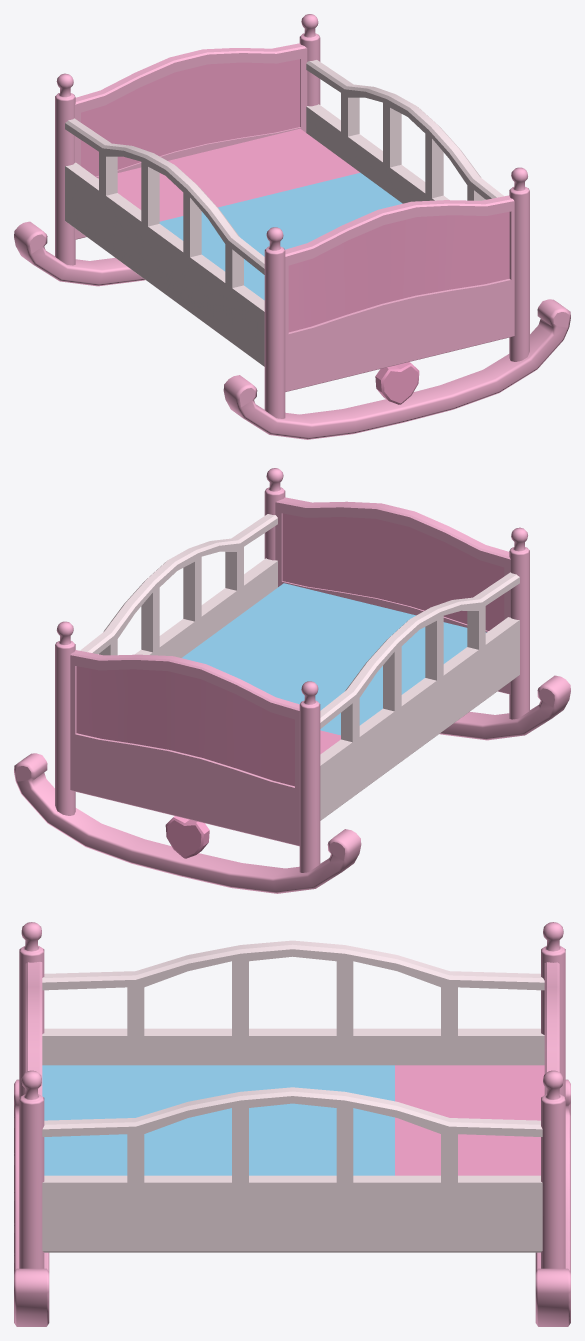
The model's file is Swing_01.fbx.
The picture shows the model from 3 angles, top to bottom: view 1: azimuth 30°, elevation 25°; view 2: azimuth 150°, elevation 25°; view 3: azimuth 270°, elevation 25°; orthographic projection. The views are drawn at different scales.
Visible parts, largest first — view 1: polySurface89; view 2: polySurface89; view 3: polySurface89.
Boxes of the visible parts, box(x1,y1,x2,y2) form: polySurface89: box(14, 14, 570, 439); polySurface89: box(14, 468, 570, 893); polySurface89: box(14, 922, 570, 1326).
Size of the model in its own units: 119 by 74.67 by 138.
1 material, 1 textured.
